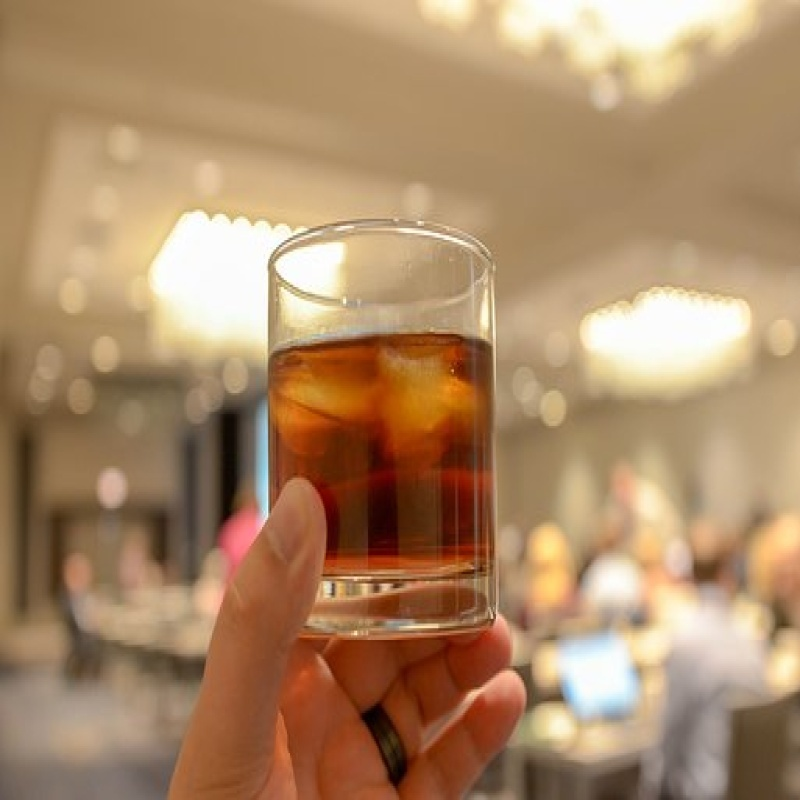whiskey: (270, 224, 505, 638)
